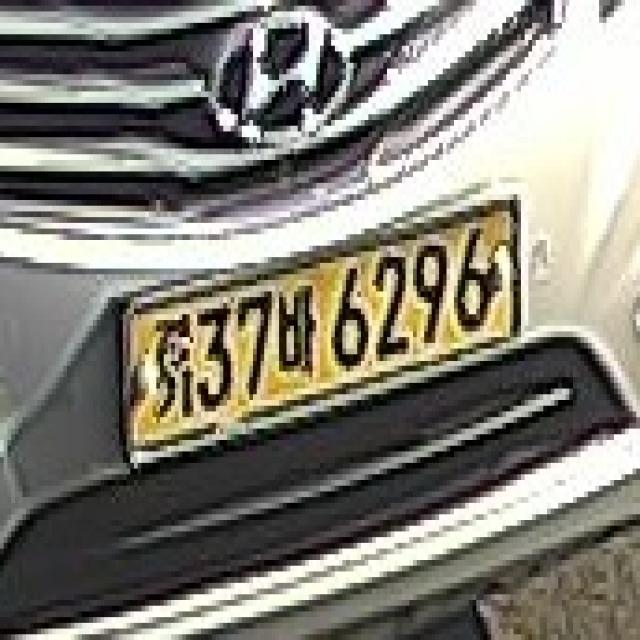plat: (117, 186, 527, 468)
